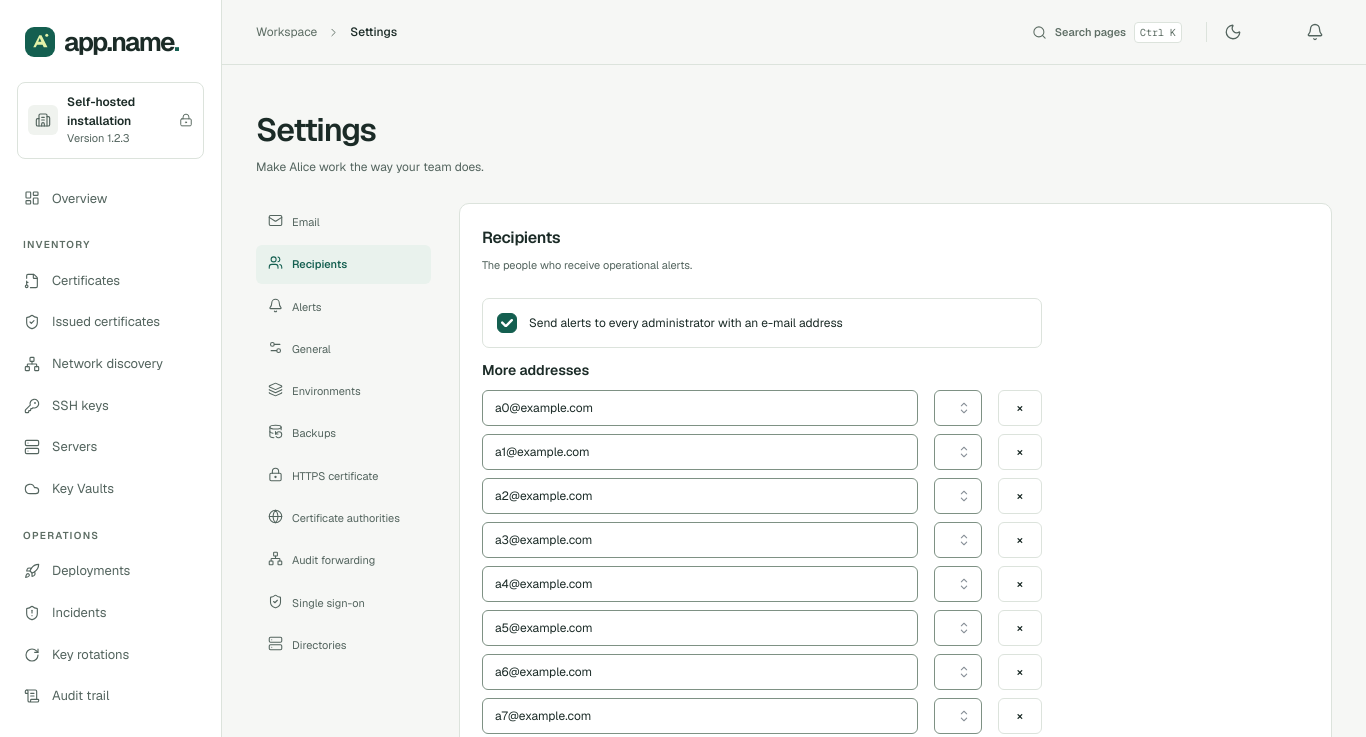
RecipientsSettings › removes an address and stops adding at 20
Click the button named "Remove address 1": point(1020, 408) x1=998 y1=390 x2=1042 y2=426
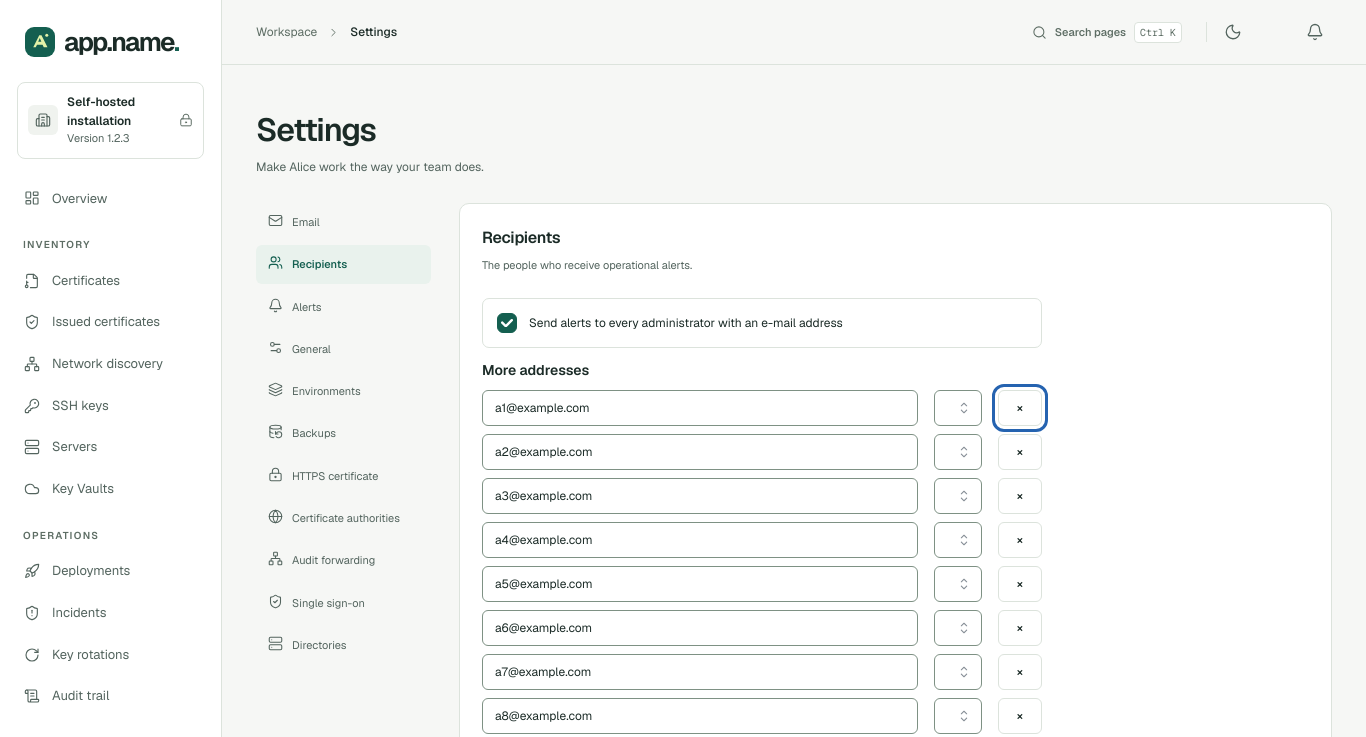
Expected: the field named "E-mail address 1" holds "a1@example.com", x1=482 y1=390 x2=918 y2=426
